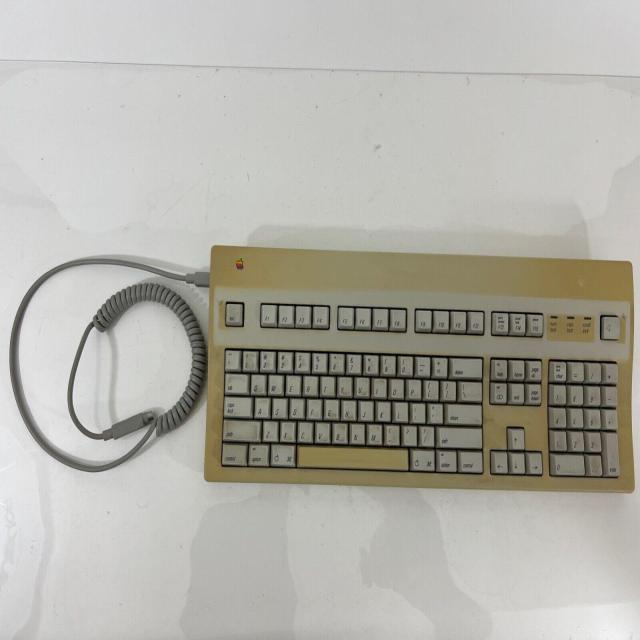keyboard: (200, 244, 637, 501)
